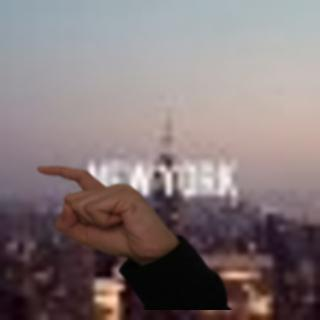WHY: (23, 156, 175, 259)
